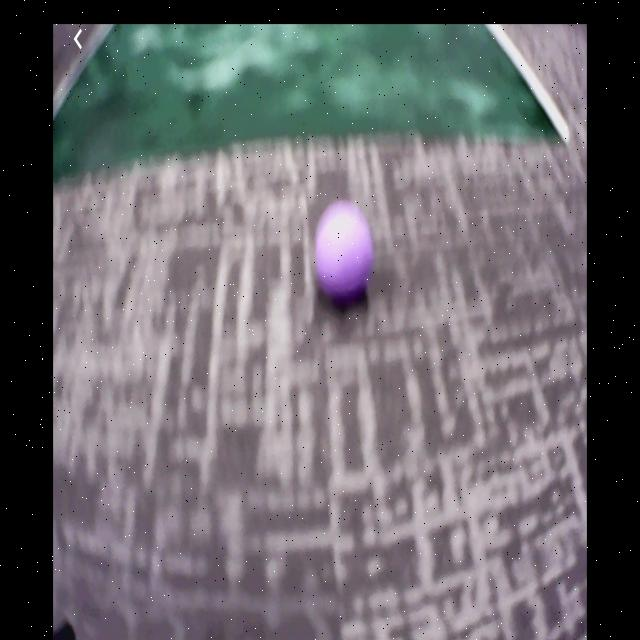ball: (315, 206, 374, 297)
